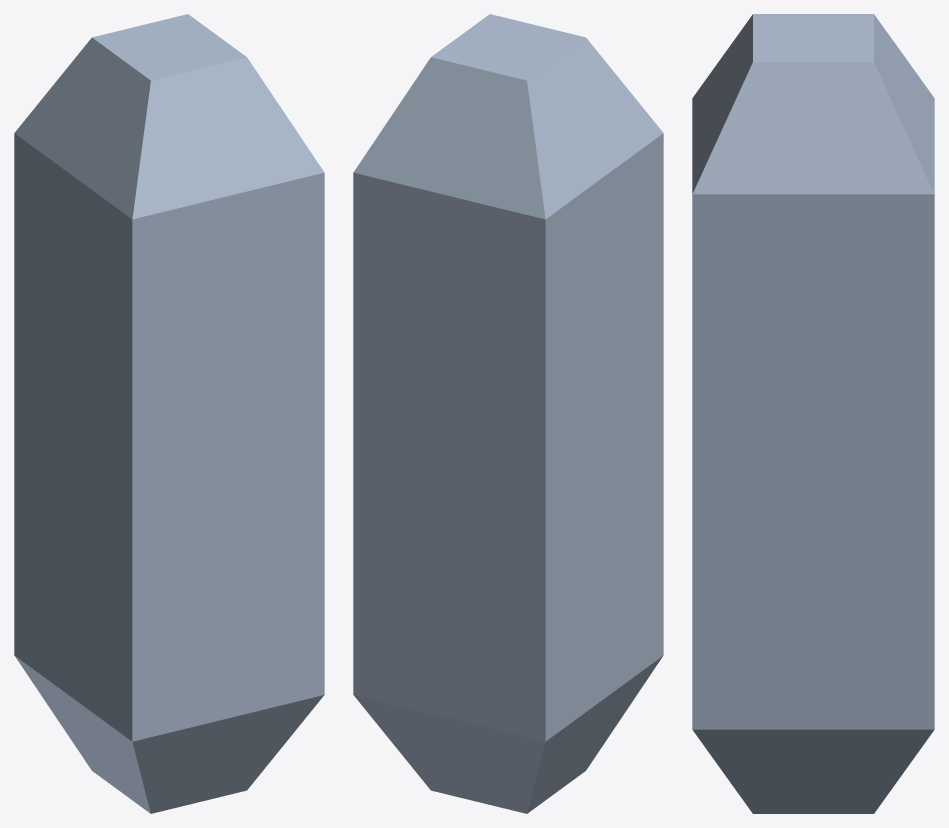
The model's file is Bandit1UpperLeg.fbx.
3 views of the same model, side by side, from view 1: azimuth 30°, elevation 25°; view 2: azimuth 150°, elevation 25°; view 3: azimuth 270°, elevation 25° (orthographic). The views are drawn at different scales.
Parts seen in each view (by area): view 1: Bandit1UpperLeg; view 2: Bandit1UpperLeg; view 3: Bandit1UpperLeg.
Boxes of the visible parts, <box> form: Bandit1UpperLeg: <box>14,14,324,813</box>; Bandit1UpperLeg: <box>353,14,663,813</box>; Bandit1UpperLeg: <box>692,14,934,813</box>.
Size of the model in its own units: 0.1568 by 0.5717 by 0.1668.
